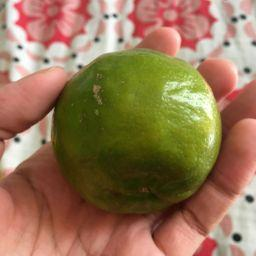Ripe: (52, 53, 223, 215)
